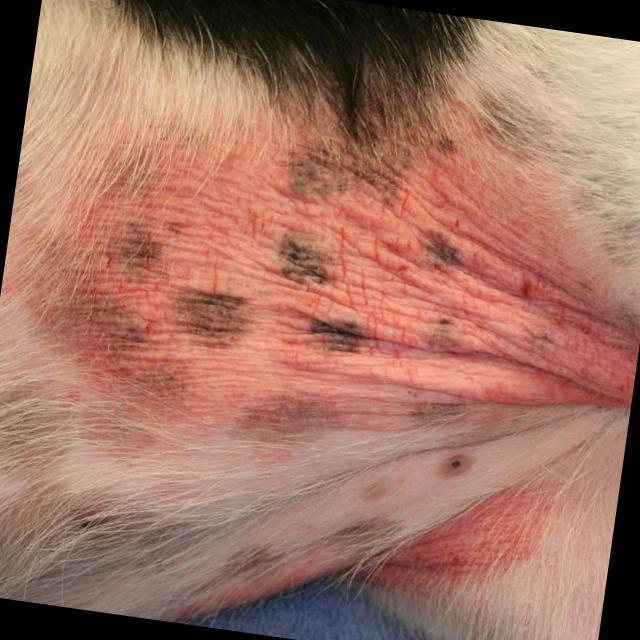allergic dermatitis: (44, 99, 635, 433)
